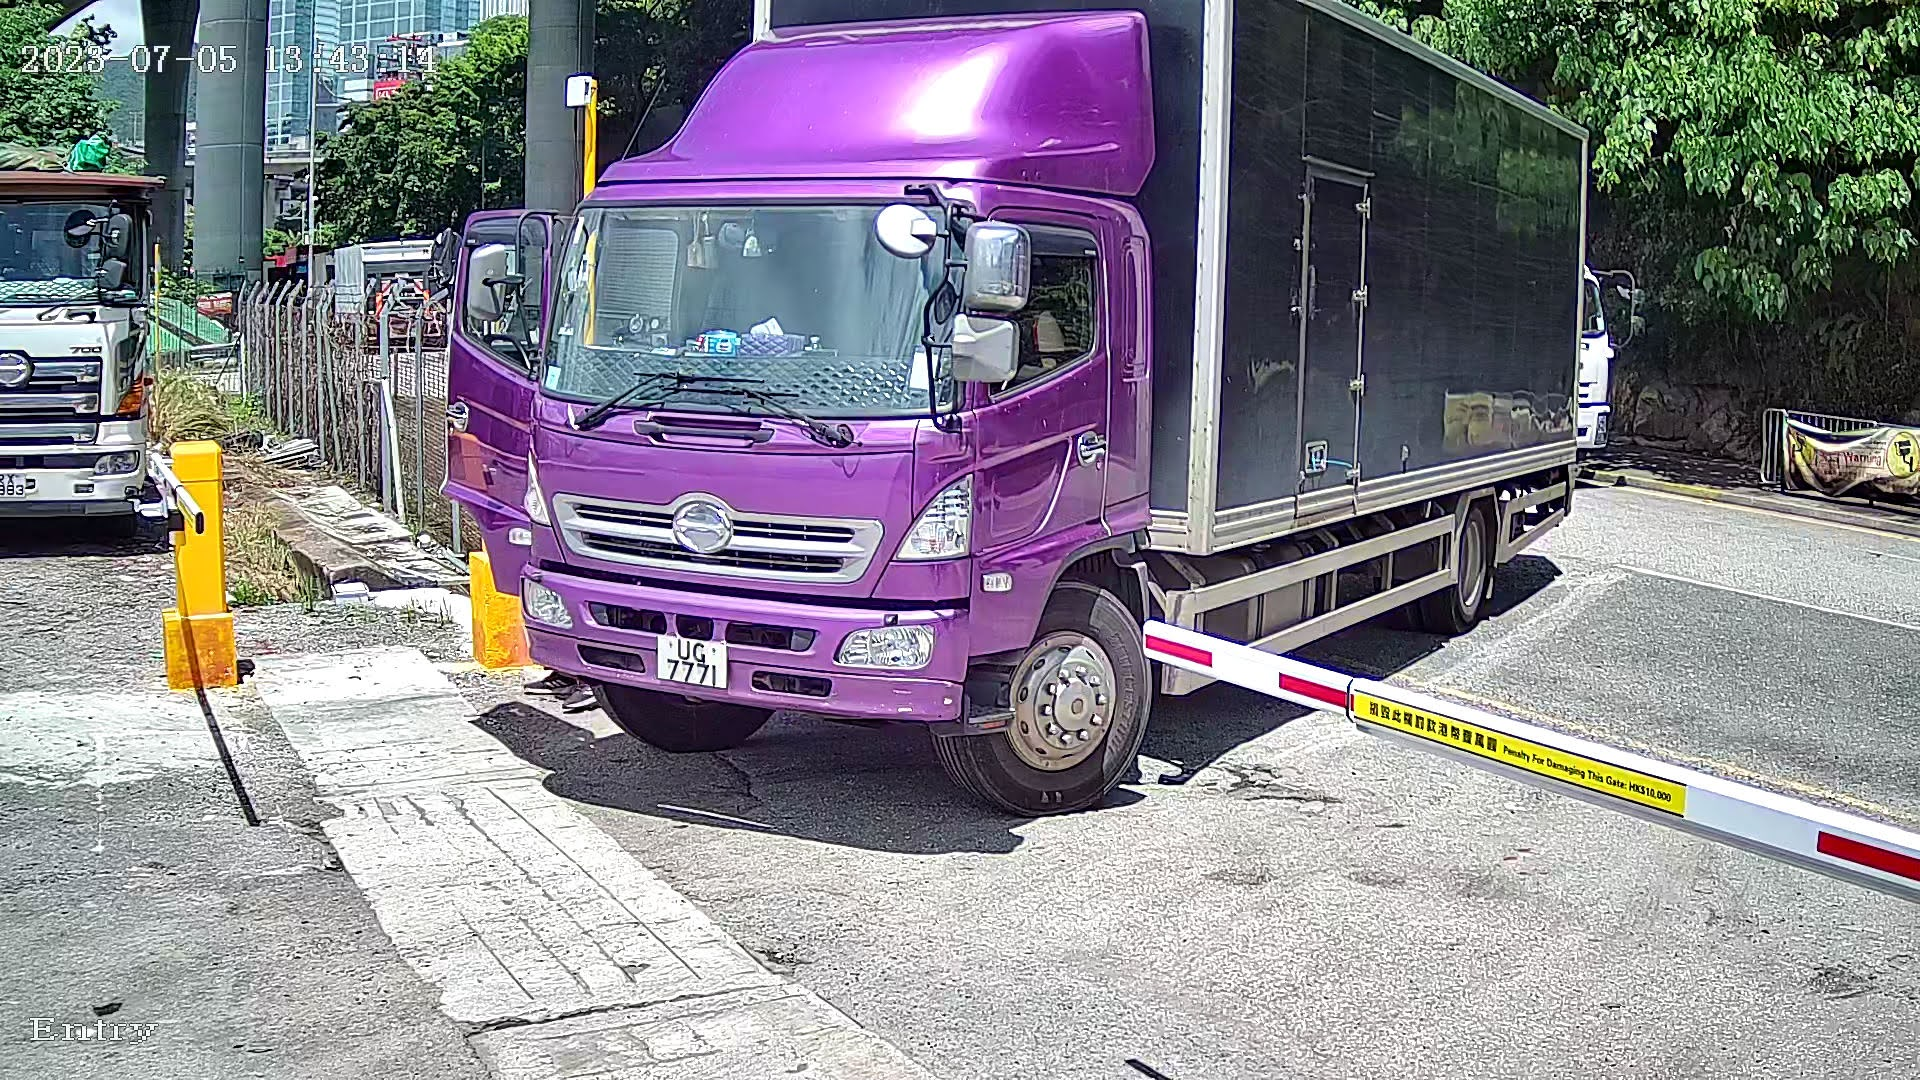truck: (398, 7, 1688, 831)
